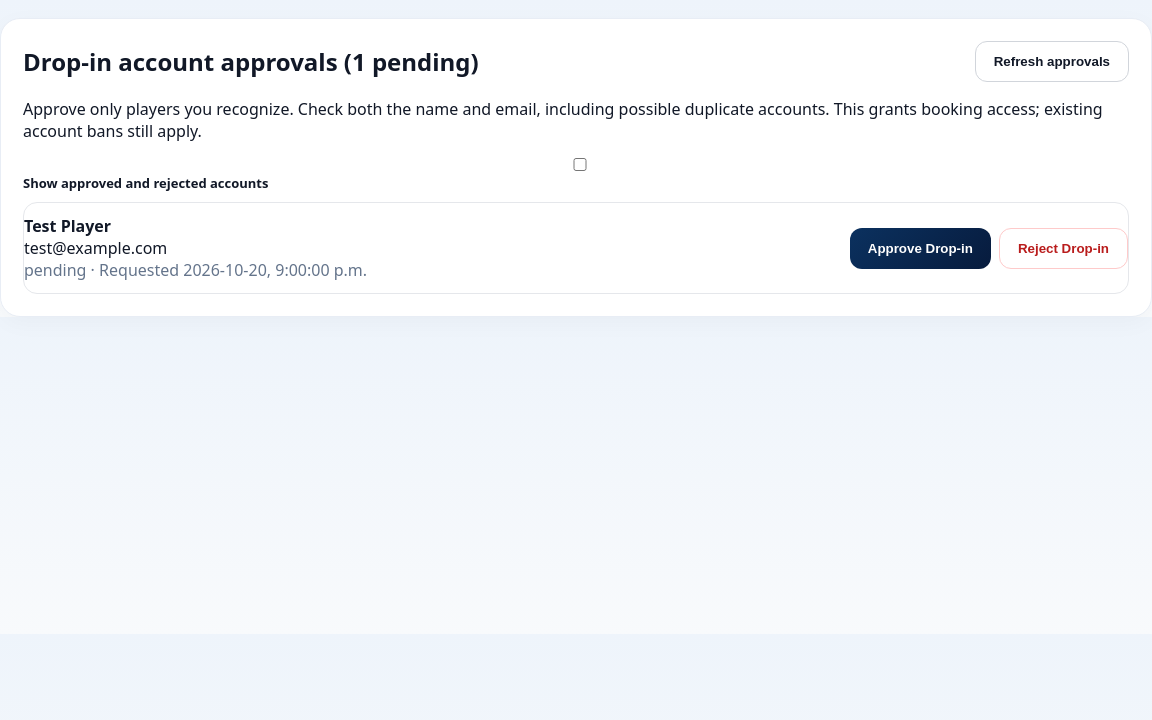
it: Drop-in account approval › shows name and email and saves the admin decision
Expected: the text "test@example.com" is shown, [24,237,167,259]
Click the button "Approve Drop-in": (920, 248) [850,228,991,268]
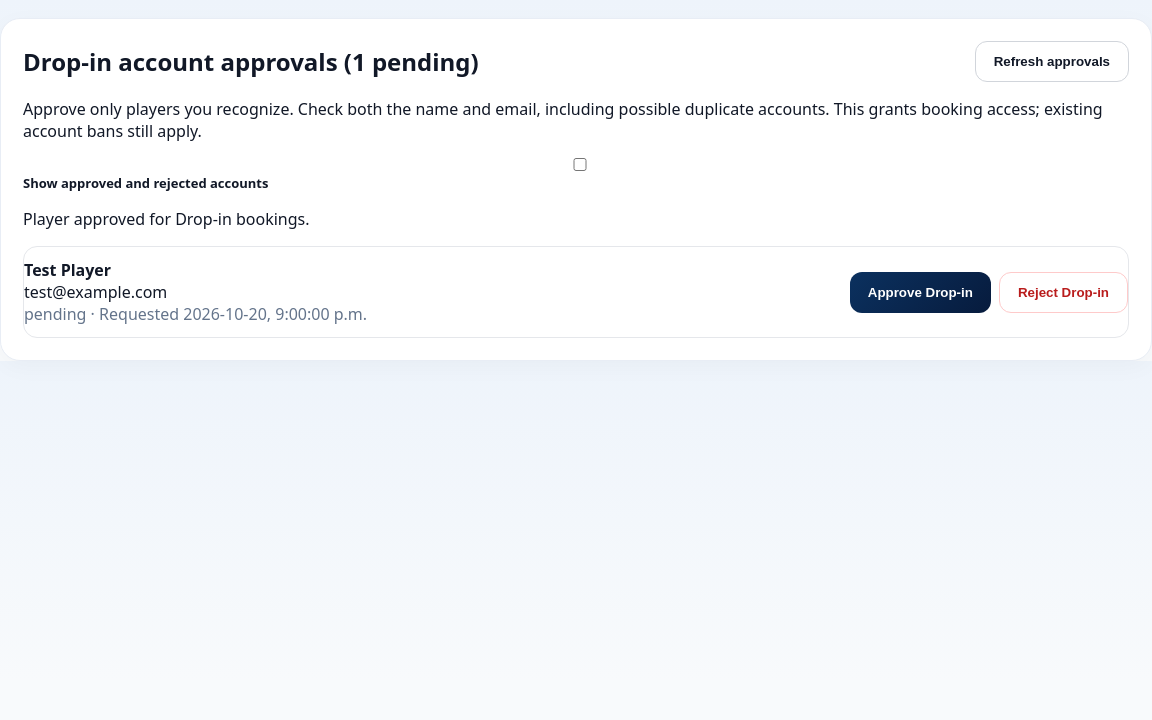
Expected: the message "Player approved for Drop-in bookings." is shown, [23,208,310,230]
